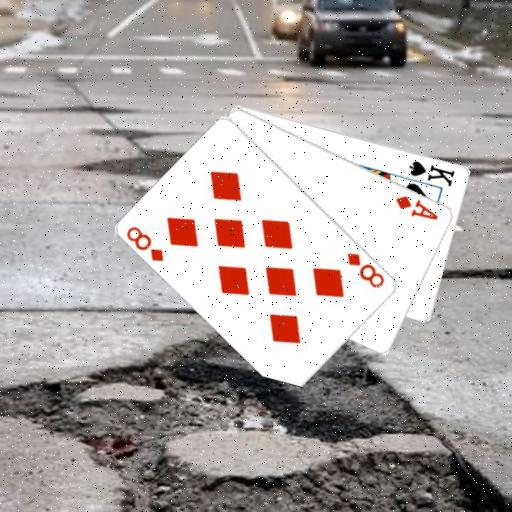8D: (345, 250, 387, 290), (124, 223, 166, 263)
AD: (393, 192, 441, 222)
KS: (407, 158, 457, 188)
